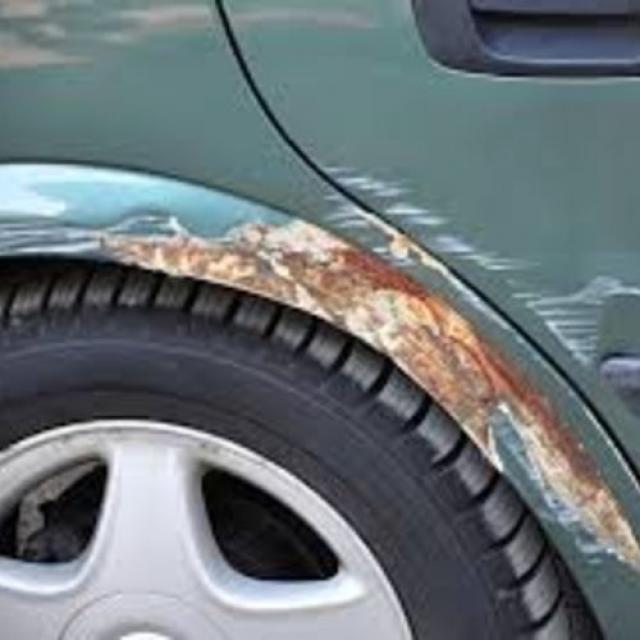scratch: (96, 166, 549, 322), (465, 264, 640, 543)
